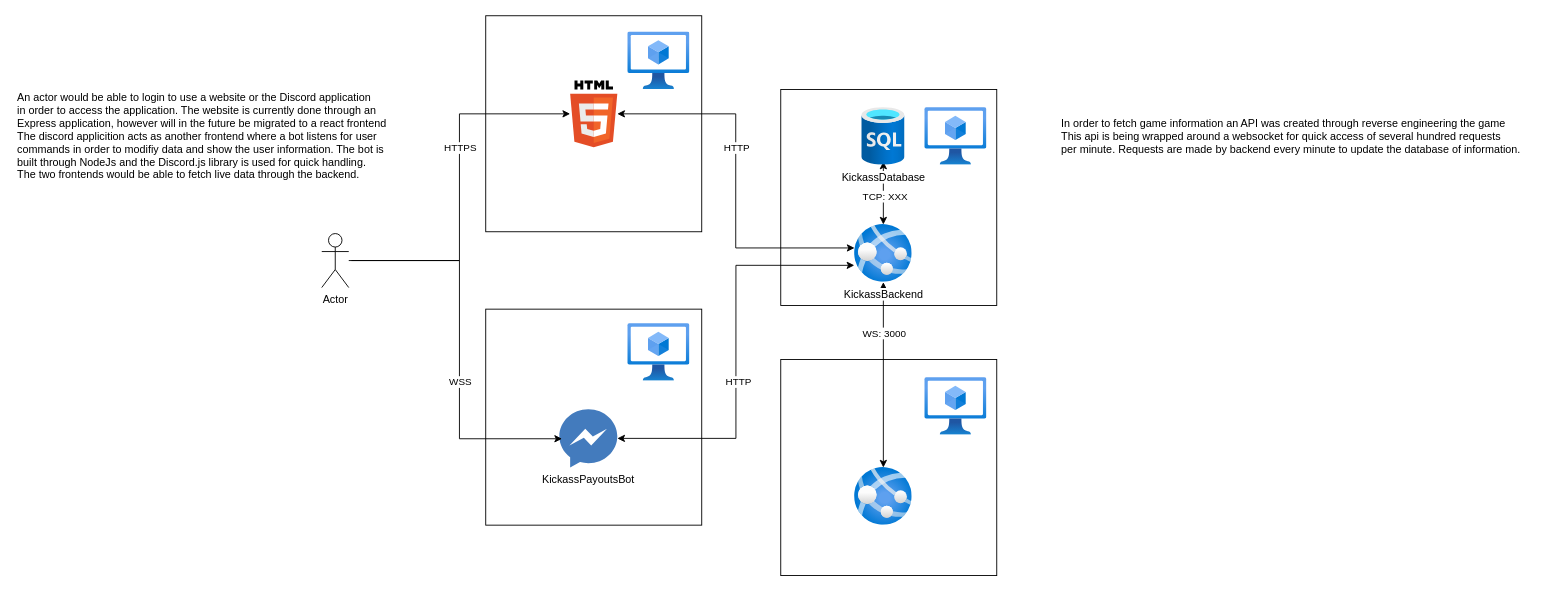
Image size: 1552x591. Some labels were removed from this diagram. The centre of each missing label's shape, as x and y in pixels:
KickassWebsite: (x=593, y=113)
swArenaApi: (x=883, y=496)
